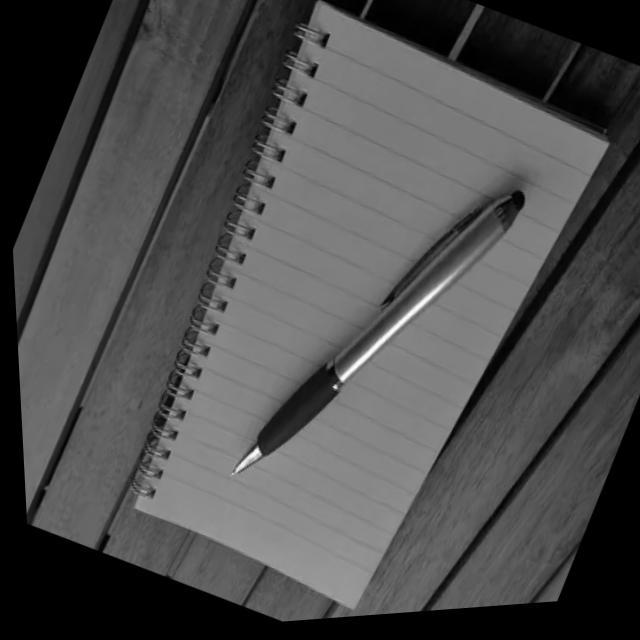pencil: (213, 146, 553, 498)
